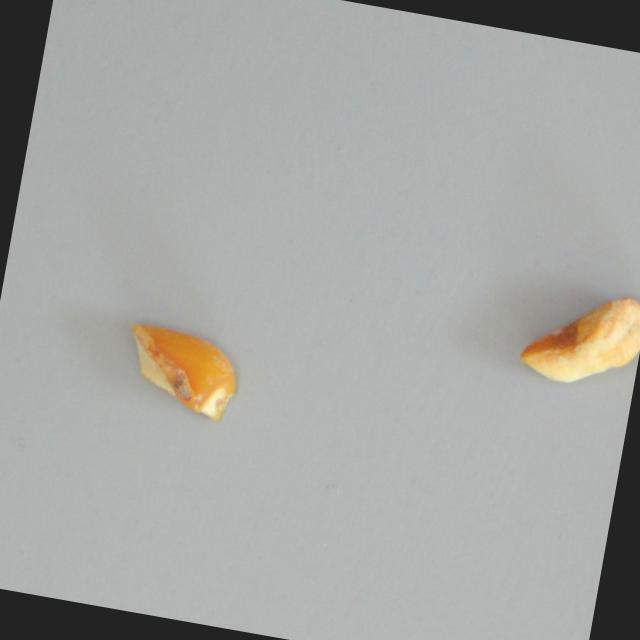dañado: (513, 274, 640, 396), (114, 314, 247, 427)
